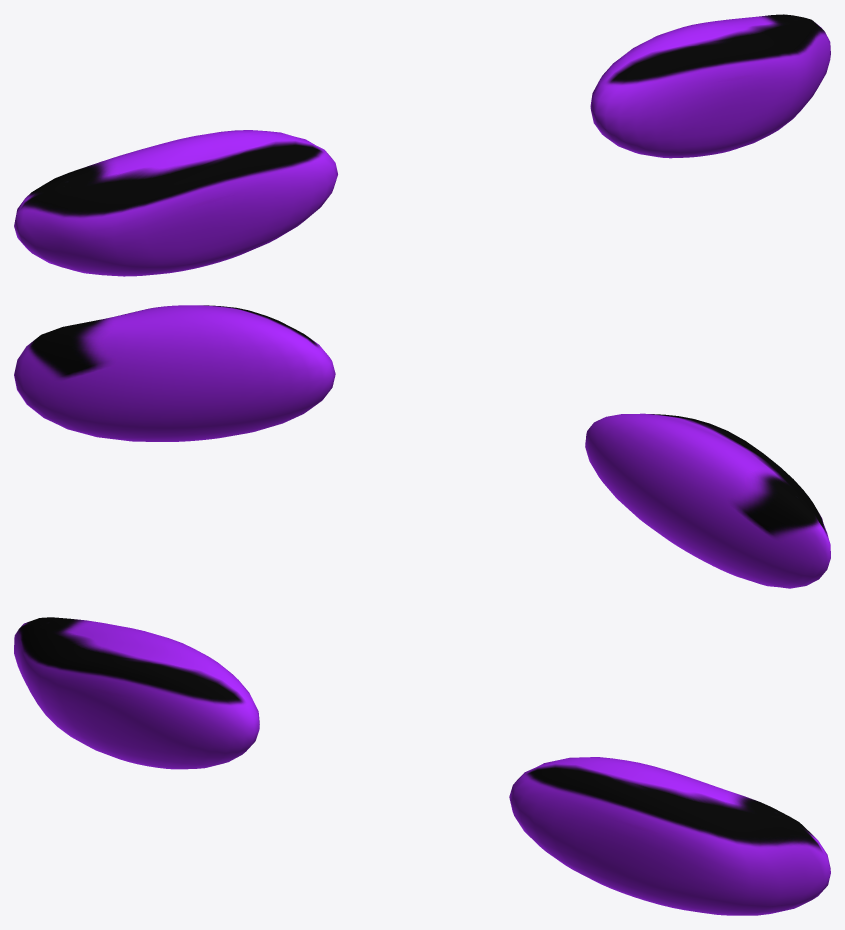
The model's file is Zombie-Purple.glb.
3 views of the same model, one above another, from view 1: azimuth 30°, elevation 25°; view 2: azimuth 150°, elevation 25°; view 3: azimuth 330°, elevation 25° (orthographic).
Visible parts, largest first — view 1: Sphere.002; view 2: Sphere.002; view 3: Sphere.002.
Boxes of the visible parts, x1,y1,x2,y2 form: Sphere.002: (14,14,830,276); Sphere.002: (14,305,830,588); Sphere.002: (14,617,830,915).
Size of the model in its own units: 0.3777 by 0.0623 by 0.0485.
1 material, 1 textured.
